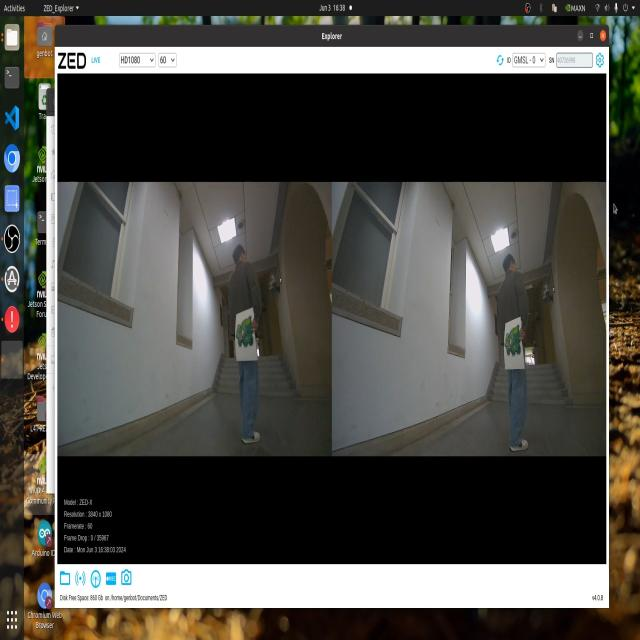green: (499, 311, 528, 366), (230, 313, 258, 358)
